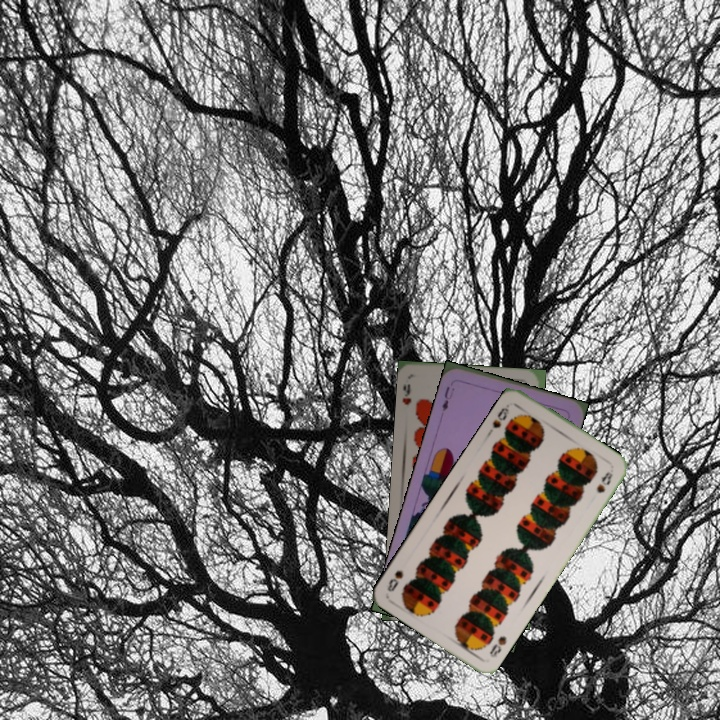EU: (438, 382, 457, 414)
H9: (398, 379, 414, 407)
S8: (488, 400, 512, 431), (485, 632, 509, 660)
